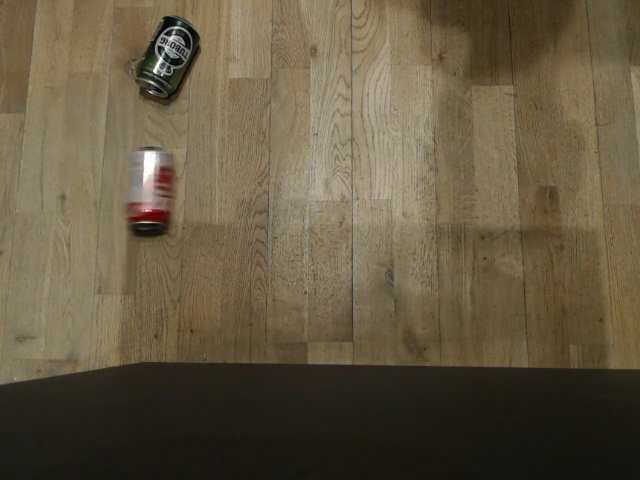beer: (134, 11, 200, 101)
cola: (127, 144, 173, 233)
